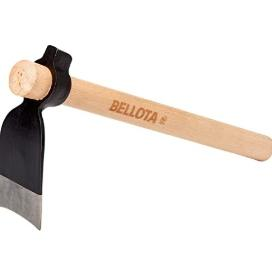HOUE: (0, 41, 272, 233)
